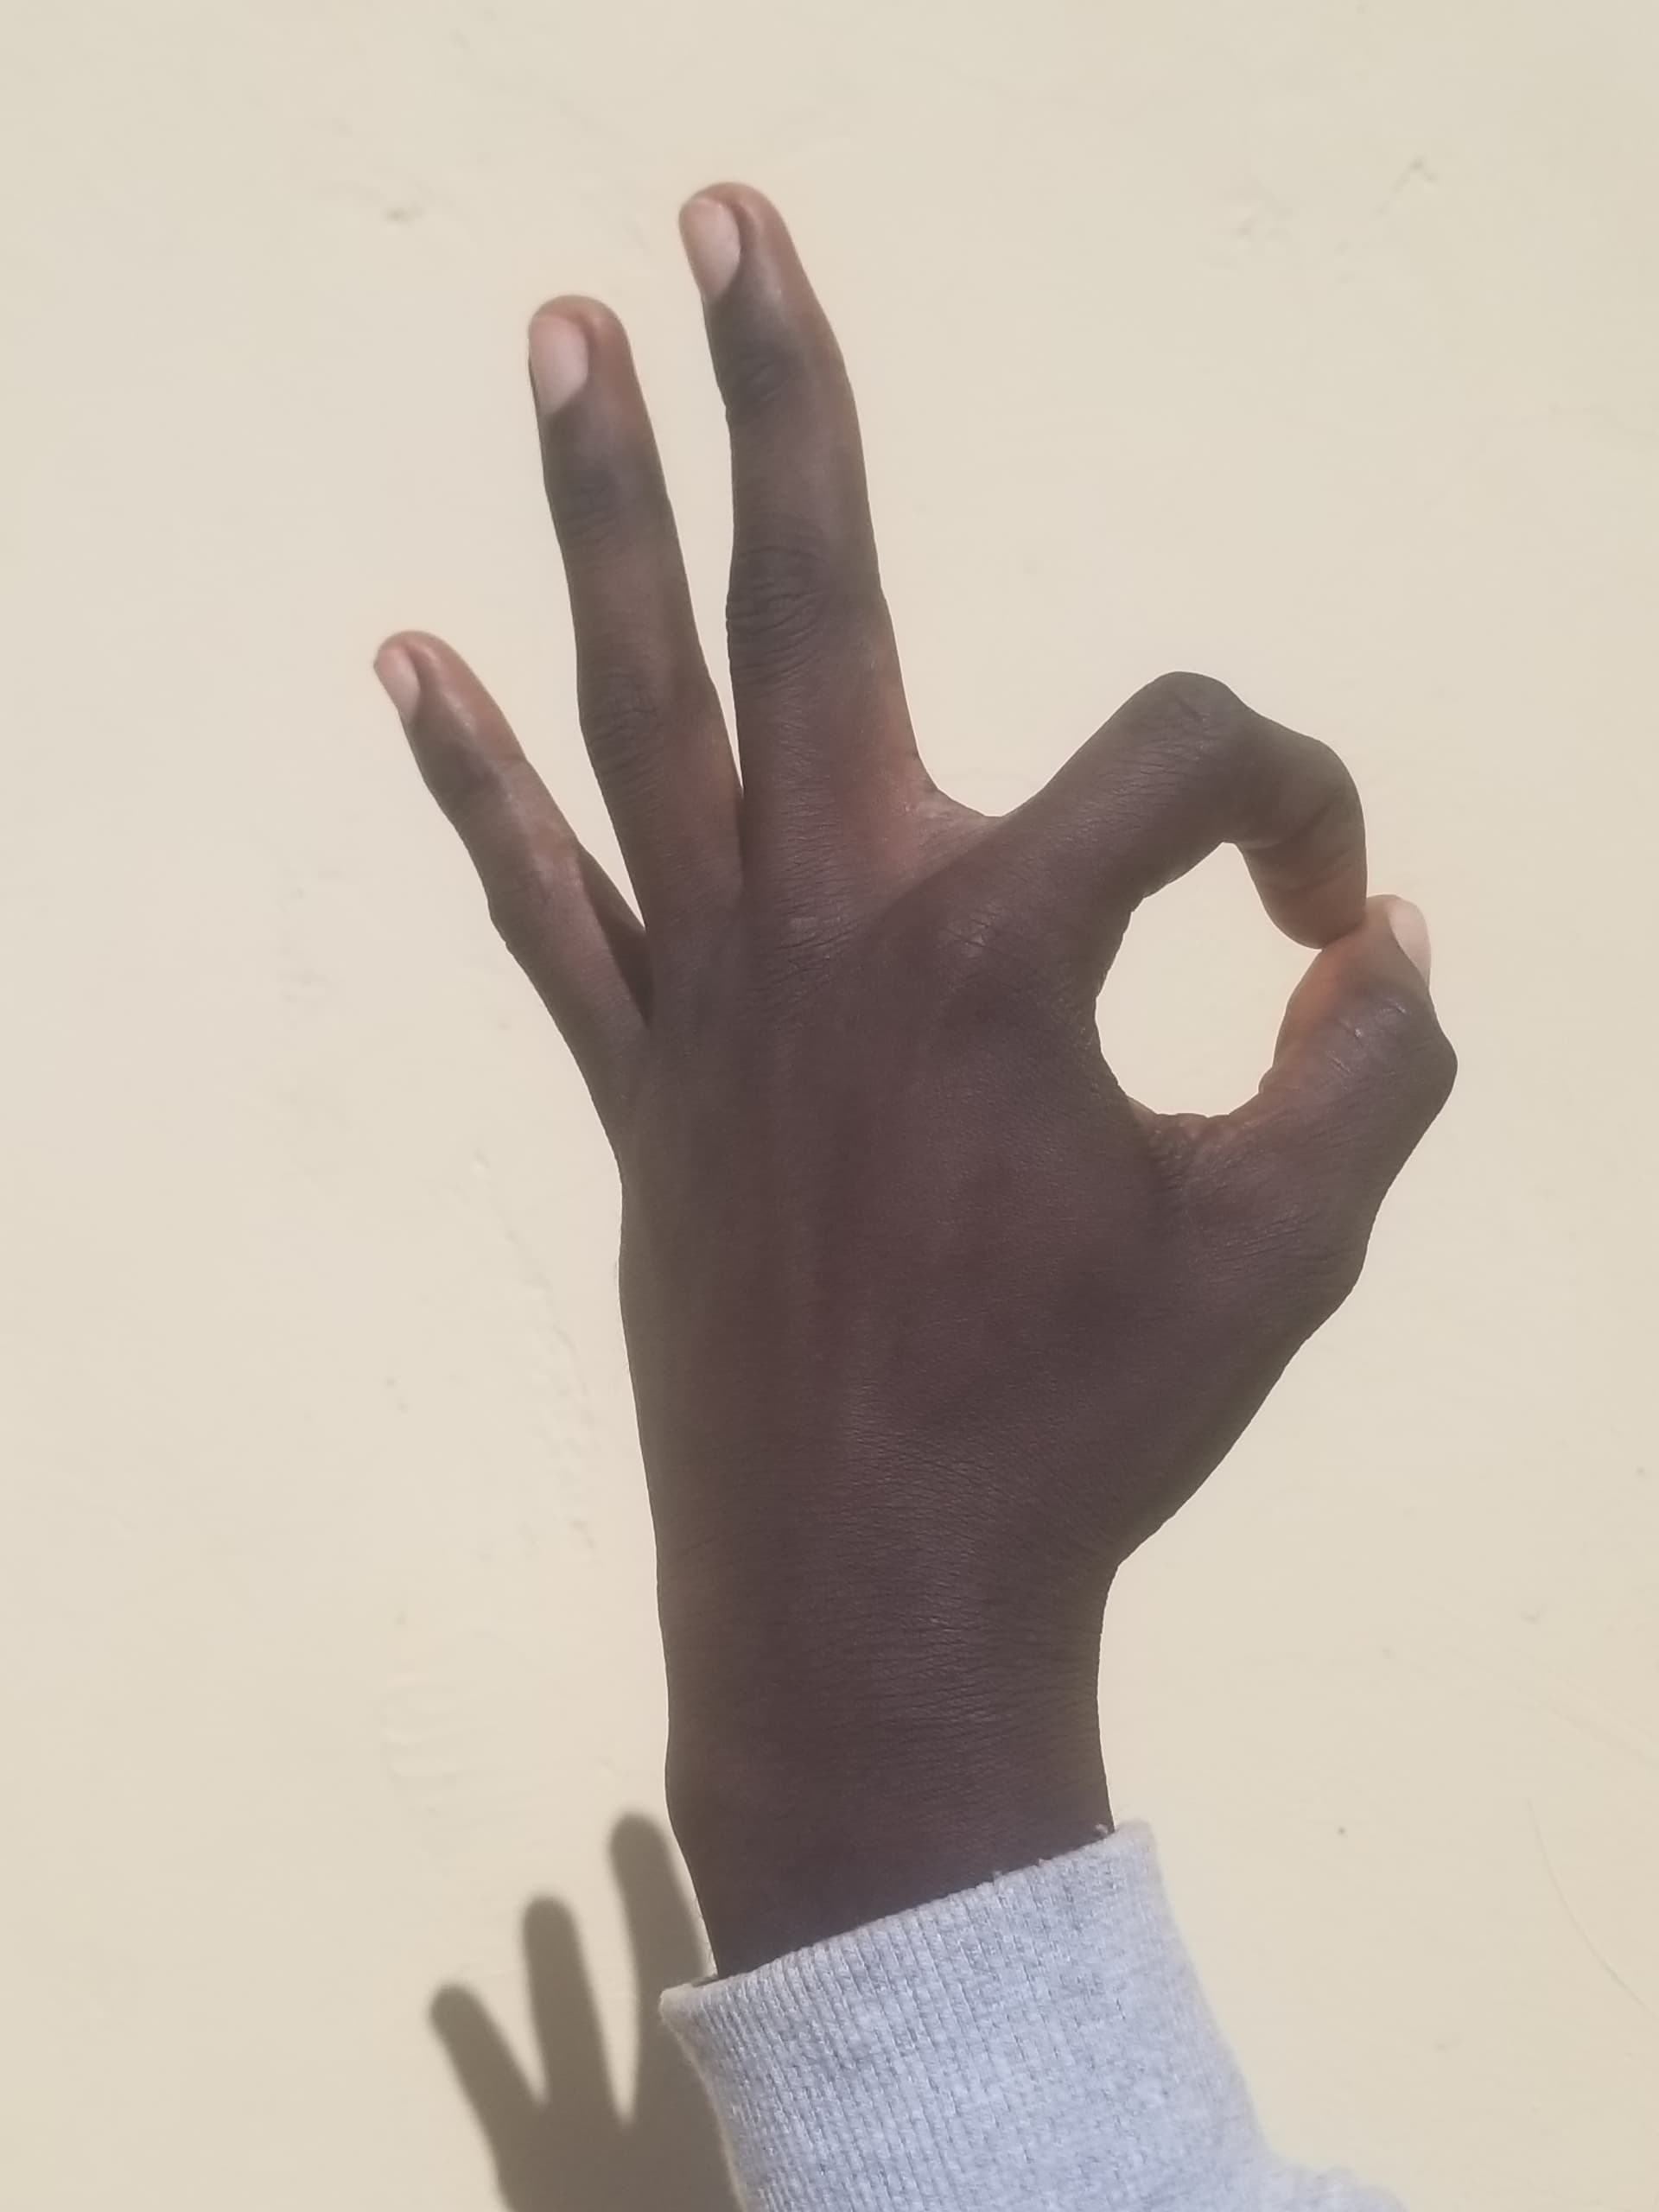okay: (289, 94, 1504, 1599)
